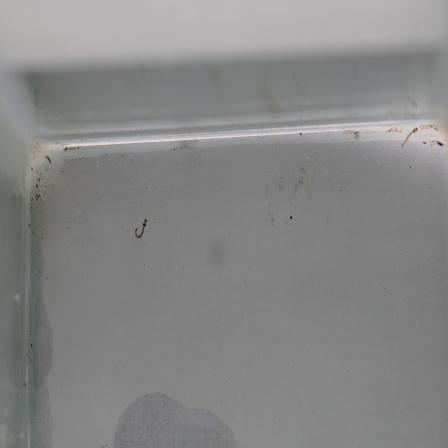Jentik-Nyamuk: (398, 124, 423, 150), (130, 216, 151, 242)
